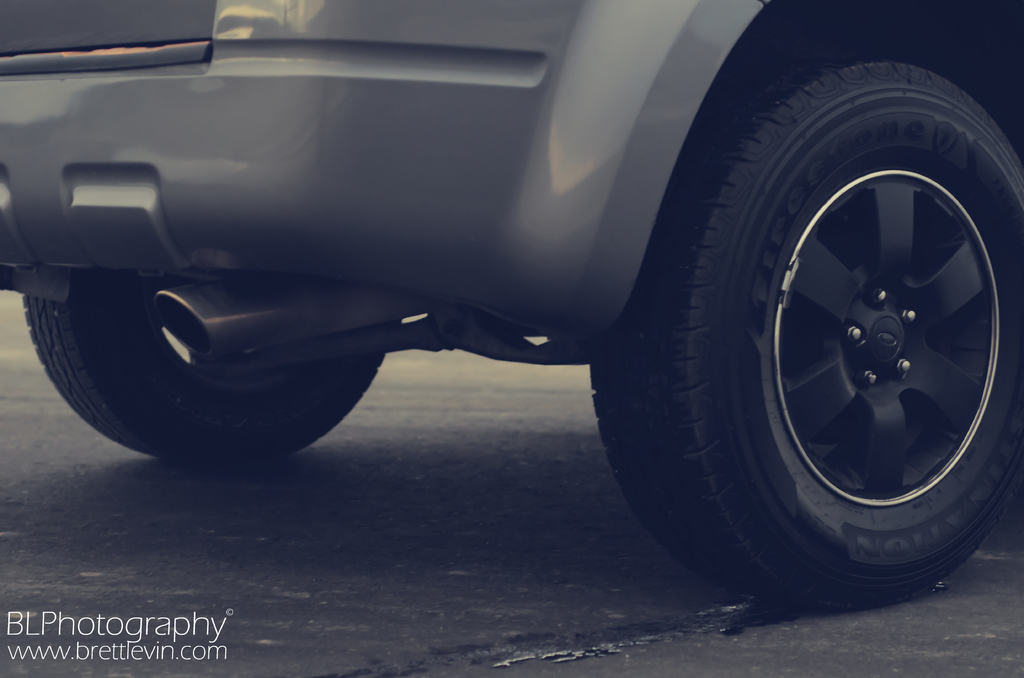Wheel: (584, 37, 1023, 615), (16, 294, 408, 462)
